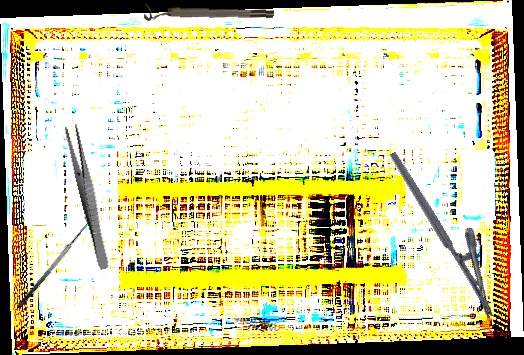Dressing Forceps: (62, 123, 115, 271)
Fixation Ring: (144, 3, 274, 26)
Needle Holder: (388, 137, 517, 320)
Spatula Surgical: (9, 215, 95, 310)
